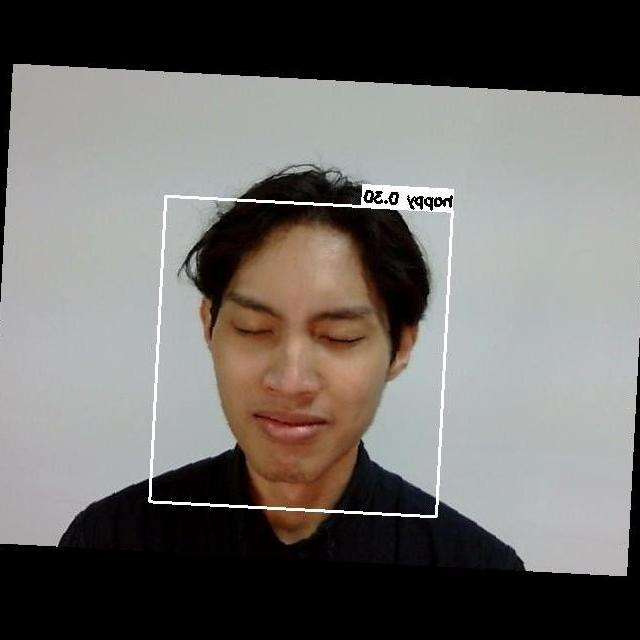Sad: (202, 277, 383, 469)
